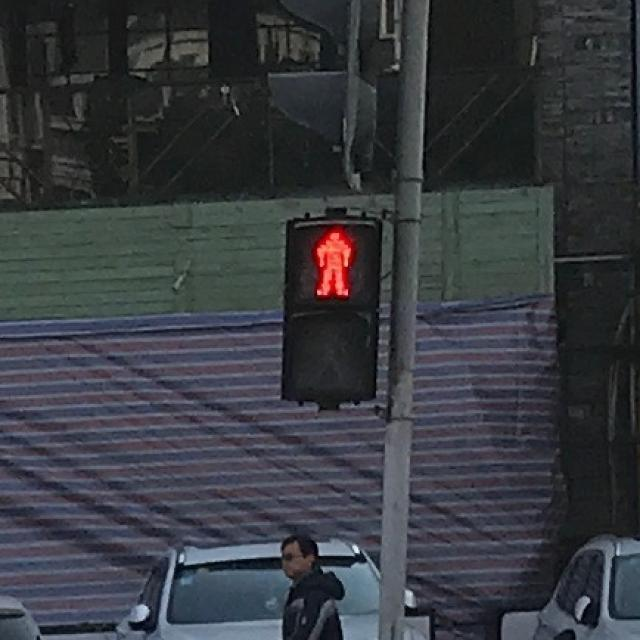red-crossing: (295, 218, 363, 306)
